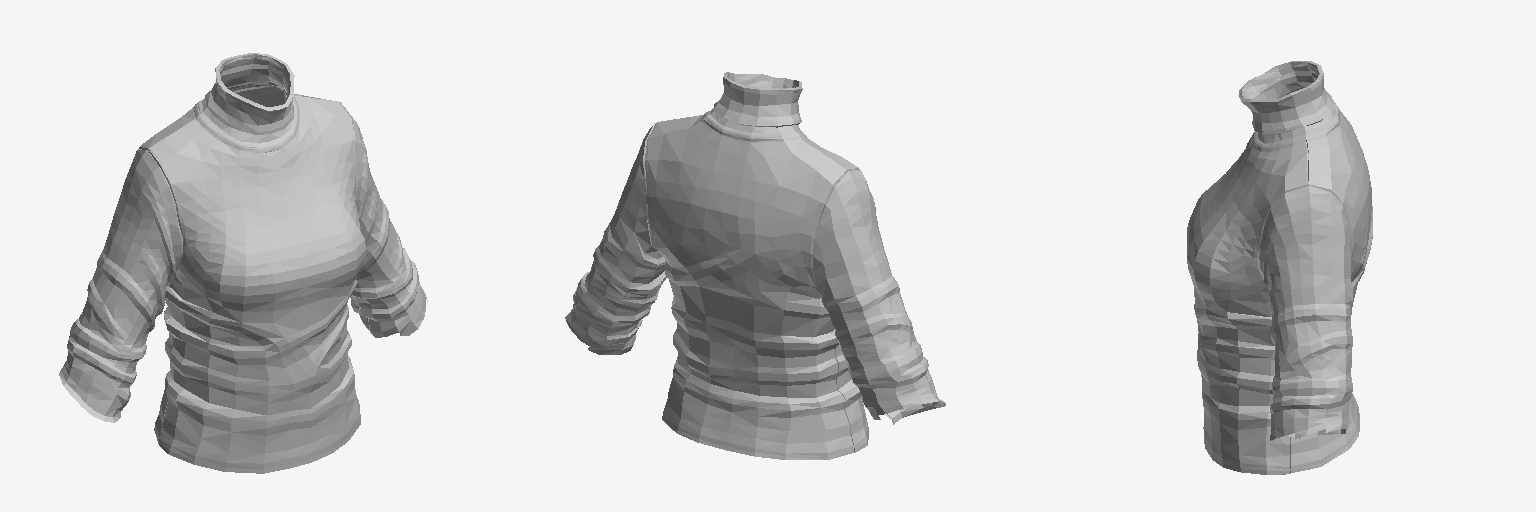
File: turtle2.obj
3 views of the same model, side by side, from view 1: azimuth 30°, elevation 25°; view 2: azimuth 150°, elevation 25°; view 3: azimuth 270°, elevation 25° (orthographic).
Parts seen in each view (by area): view 1: Woolen_shirt; view 2: Woolen_shirt; view 3: Woolen_shirt.
Boxes of the visible parts, x1,y1,x2,y2 form: Woolen_shirt: [59, 53, 427, 473]; Woolen_shirt: [565, 72, 945, 459]; Woolen_shirt: [1187, 61, 1372, 474].
Size of the model in its own units: 75.44 by 72.93 by 33.45.